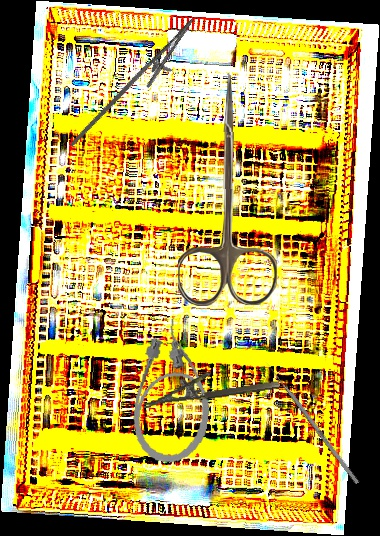Cannula: (127, 314, 222, 468)
Iris Scissors: (174, 72, 278, 307)
Needle Holder: (69, 5, 205, 168), (140, 362, 281, 409)
Pusher: (264, 360, 360, 485)
